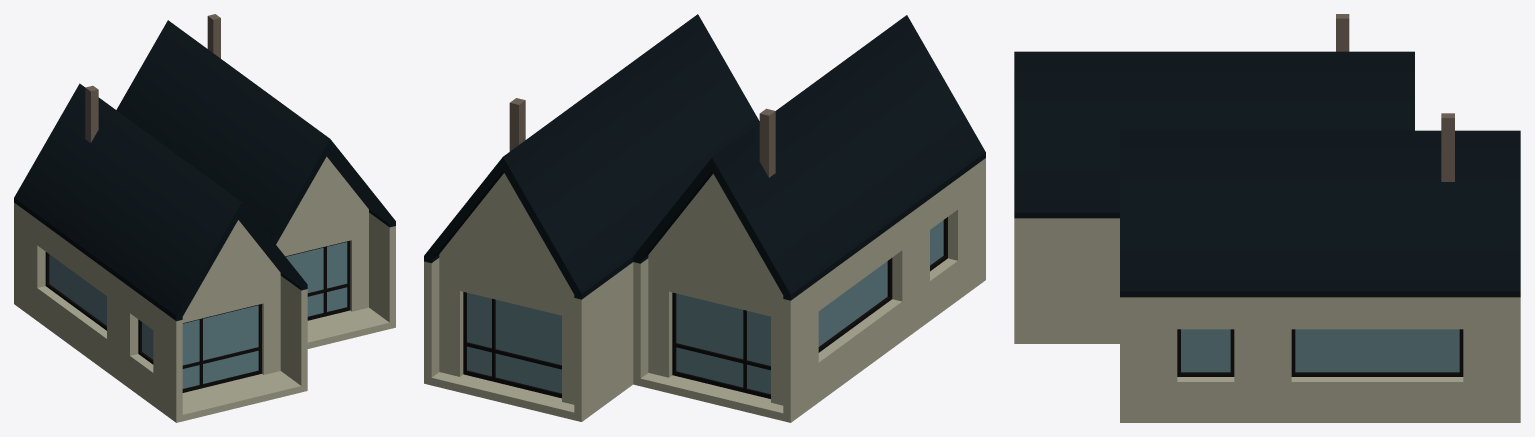
The model's file is BuildingResident11.fbx.
3 views of the same model, side by side, from view 1: azimuth 30°, elevation 25°; view 2: azimuth 150°, elevation 25°; view 3: azimuth 270°, elevation 25° (orthographic). The views are drawn at different scales.
Parts seen in each view (by area): view 1: BuildingResident11; view 2: BuildingResident11; view 3: BuildingResident11.
Boxes of the visible parts, <box> form: BuildingResident11: <box>14,14,395,422</box>; BuildingResident11: <box>424,14,985,422</box>; BuildingResident11: <box>1014,14,1520,422</box>.
Size of the model in its own units: 23.9 by 19.61 by 32.37.
